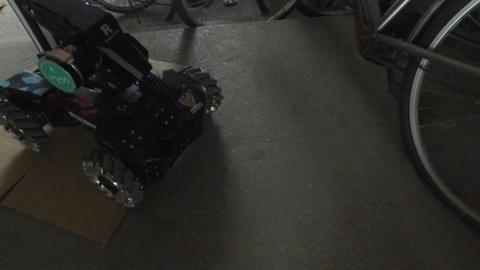chariot: (1, 1, 225, 213)
